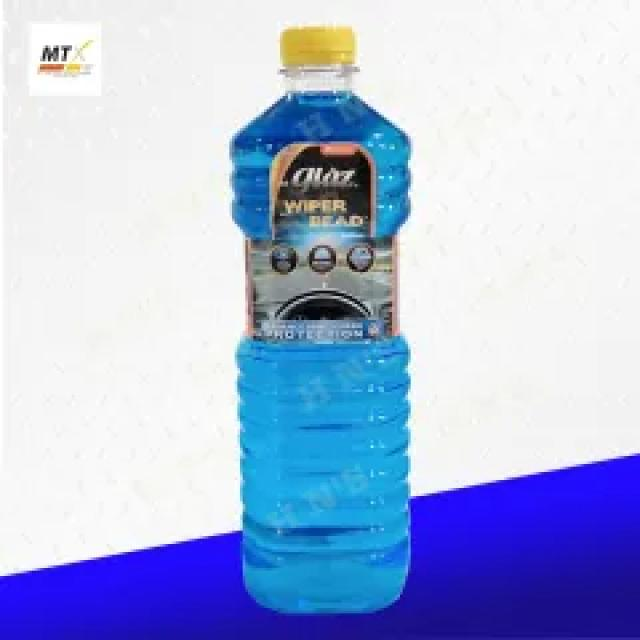winwinshield_washer: (227, 13, 416, 614)
